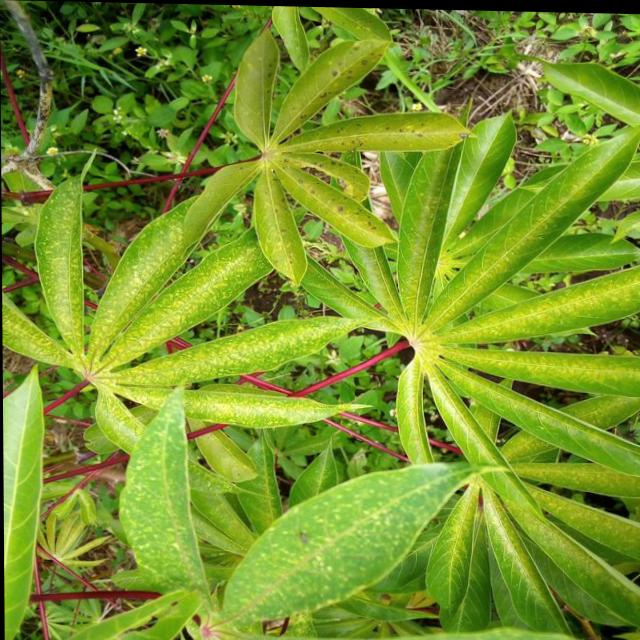Mosaico: (315, 139, 640, 452), (4, 161, 292, 458), (235, 446, 640, 640), (157, 35, 473, 279)
